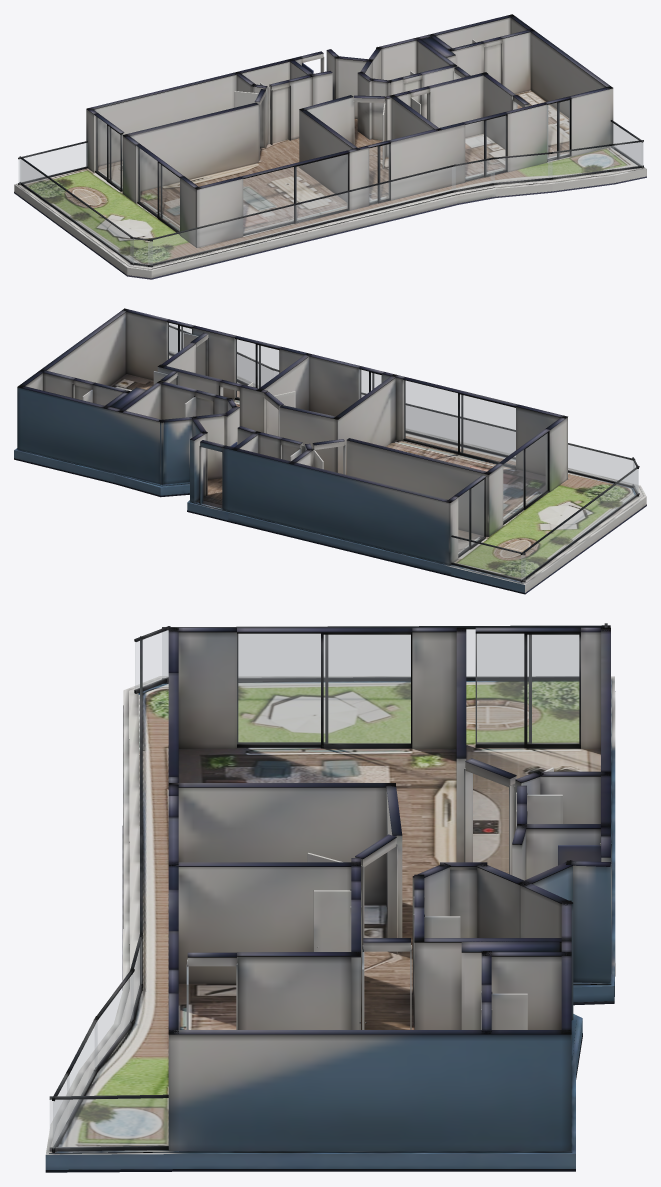
The picture shows the model from 3 angles, top to bottom: view 1: azimuth 30°, elevation 25°; view 2: azimuth 150°, elevation 25°; view 3: azimuth 270°, elevation 25°; orthographic projection. The views are drawn at different scales.
Visible parts, largest first — view 1: plan, railg1_m, glass2_m, railg8_m, glass1_m, glass4_m, railg0_m, railg4_m, railg5_m, glass0_m, glass5_m, railg6_m (+4 smaller); view 2: plan, glass2_m, railg1_m, railg8_m, glass1_m, railg0_m, glass4_m, glass0_m, railg5_m, glass5_m; view 3: plan, glass1_m, railg8_m, glass0_m, railg2_m, railg5_m, railg7_m, railg4_m.
Boxes of the visible parts, left/top/right/bottom form: plan: left=14, top=14, right=646, bottom=279; railg1_m: left=148, top=166, right=455, bottom=264; glass2_m: left=243, top=154, right=347, bottom=233; railg8_m: left=20, top=159, right=133, bottom=262; glass1_m: left=138, top=147, right=179, bottom=231; glass4_m: left=465, top=116, right=505, bottom=179; railg0_m: left=18, top=143, right=87, bottom=182; railg4_m: left=548, top=146, right=613, bottom=177; railg5_m: left=491, top=154, right=552, bottom=182; glass0_m: left=96, top=117, right=122, bottom=189; glass5_m: left=547, top=100, right=569, bottom=157; railg6_m: left=452, top=159, right=494, bottom=190; plan: left=14, top=308, right=646, bottom=594; glass2_m: left=404, top=380, right=515, bottom=465; railg1_m: left=362, top=395, right=634, bottom=485; railg8_m: left=521, top=469, right=638, bottom=580; glass1_m: left=503, top=433, right=547, bottom=522; railg0_m: left=452, top=537, right=525, bottom=579; glass4_m: left=235, top=339, right=278, bottom=398; glass0_m: left=458, top=480, right=483, bottom=554; railg5_m: left=237, top=354, right=273, bottom=387; glass5_m: left=167, top=323, right=191, bottom=359; plan: left=45, top=623, right=615, bottom=1172; glass1_m: left=237, top=634, right=410, bottom=743; railg8_m: left=162, top=629, right=578, bottom=678; glass0_m: left=476, top=634, right=578, bottom=743; railg2_m: left=50, top=1098, right=168, bottom=1147; railg5_m: left=95, top=973, right=133, bottom=1069; railg7_m: left=135, top=630, right=167, bottom=689; railg4_m: left=67, top=1022, right=97, bottom=1118.
Bounding box in the file's own units: 19.85 × 2.62 × 9.98.
Materials: 2 (1 with a texture image).
